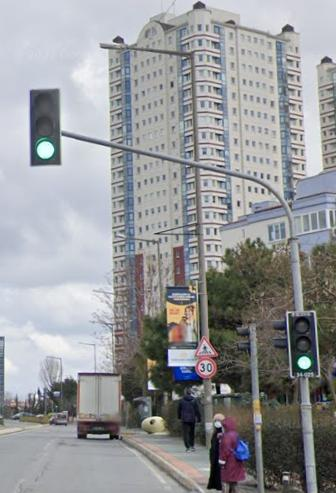greenlight: (29, 90, 61, 166), (288, 308, 318, 374)
